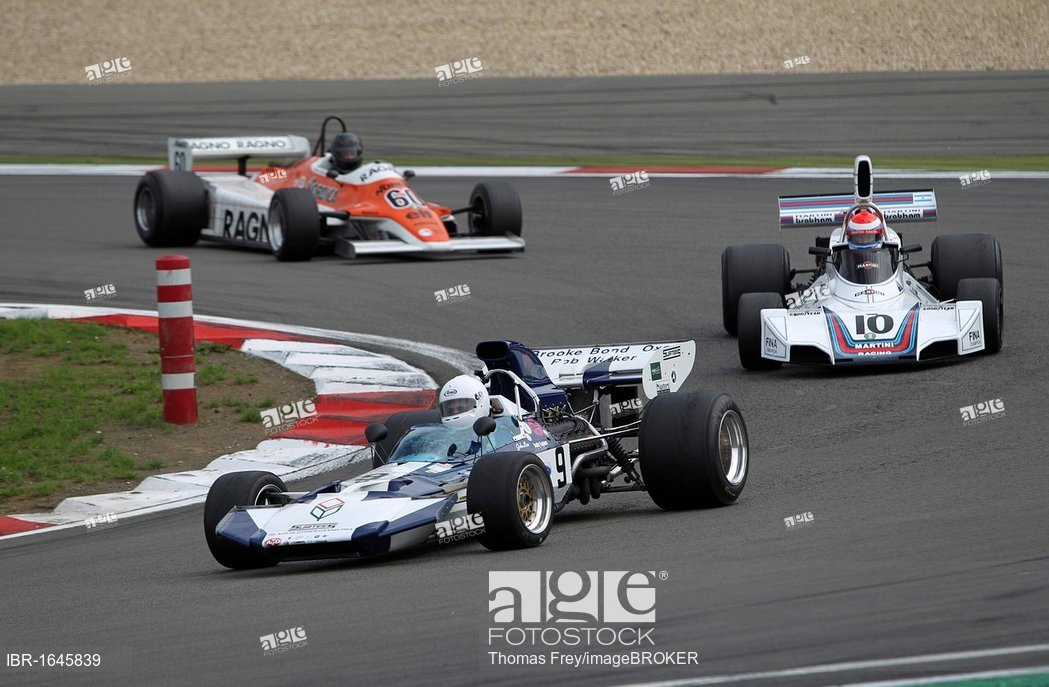f1_car: (190, 326, 762, 586), (708, 145, 1013, 388), (123, 105, 546, 279)
helmet: (428, 367, 506, 441), (836, 202, 893, 259), (318, 129, 374, 178)
